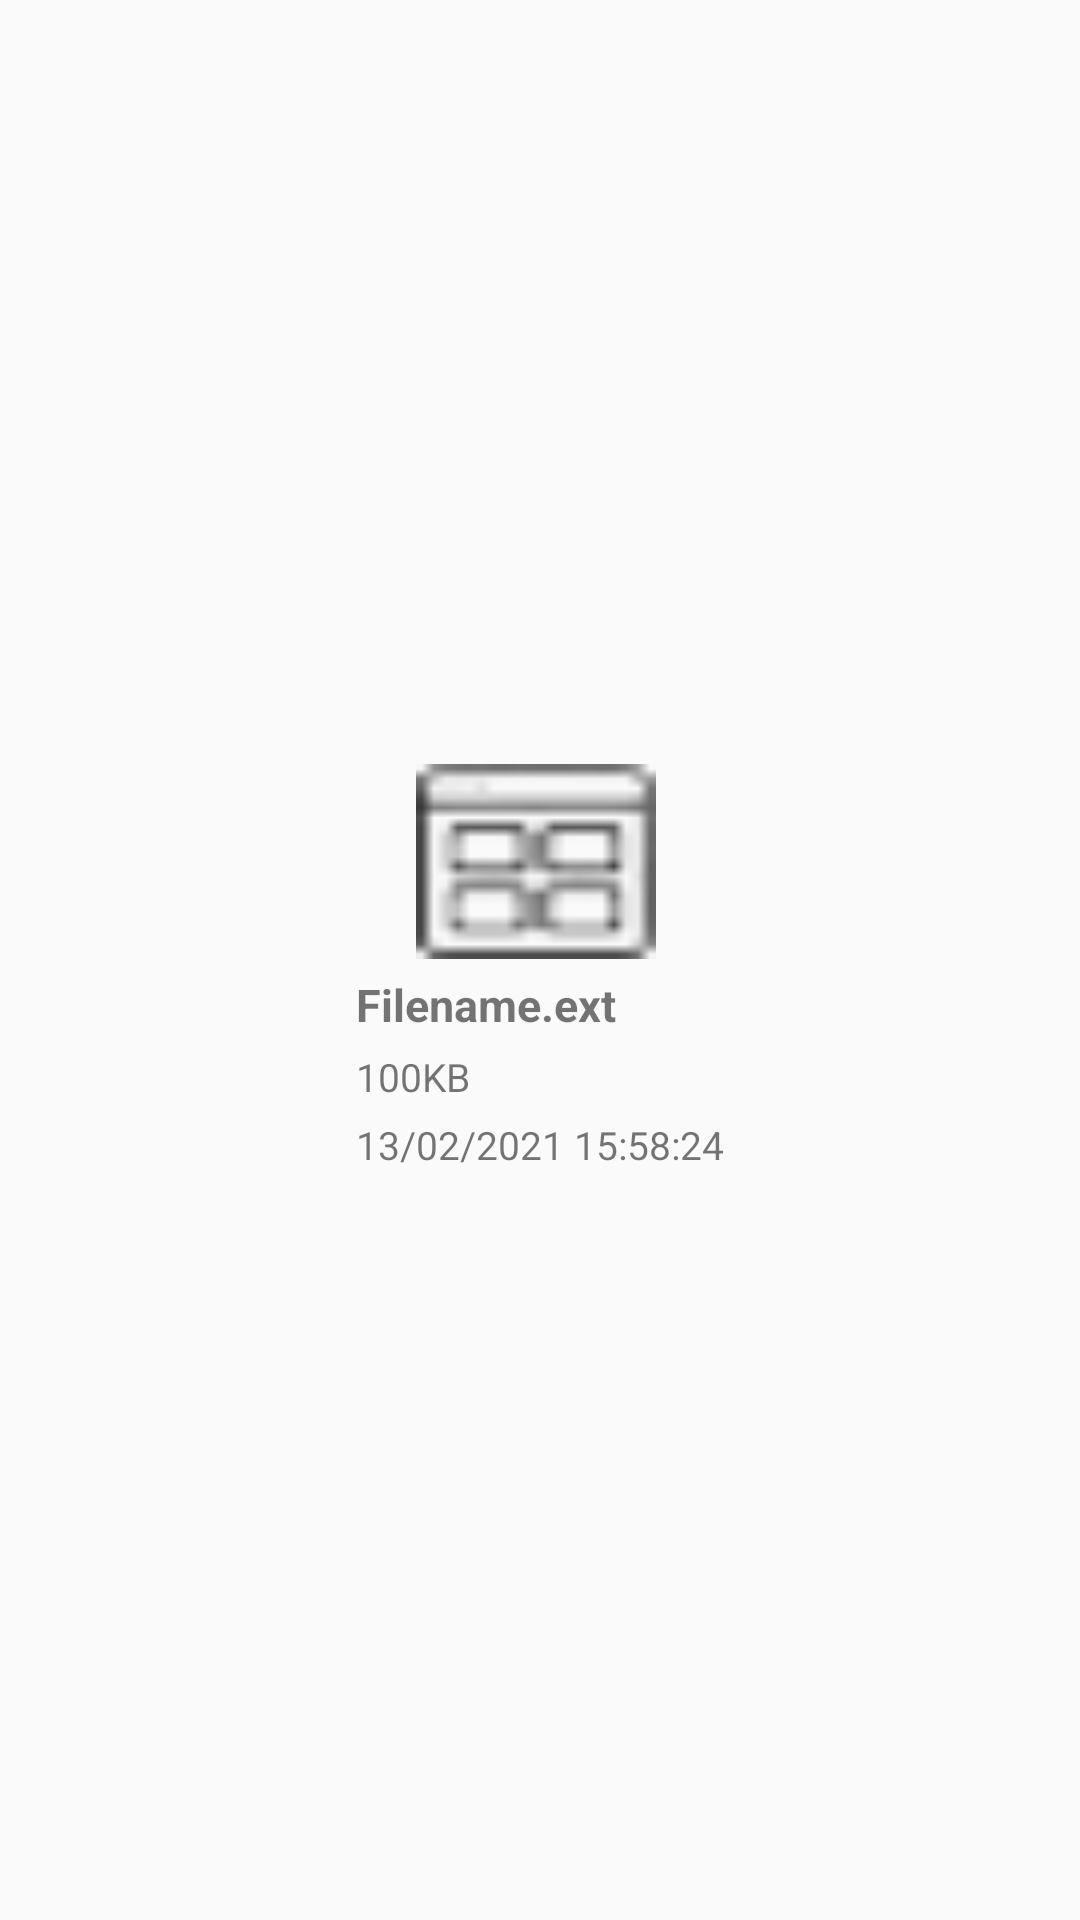

Screen size 1080px x 1920px. Icon name, then its center in pixels as point (x, y):
largeview: point (536, 861)
